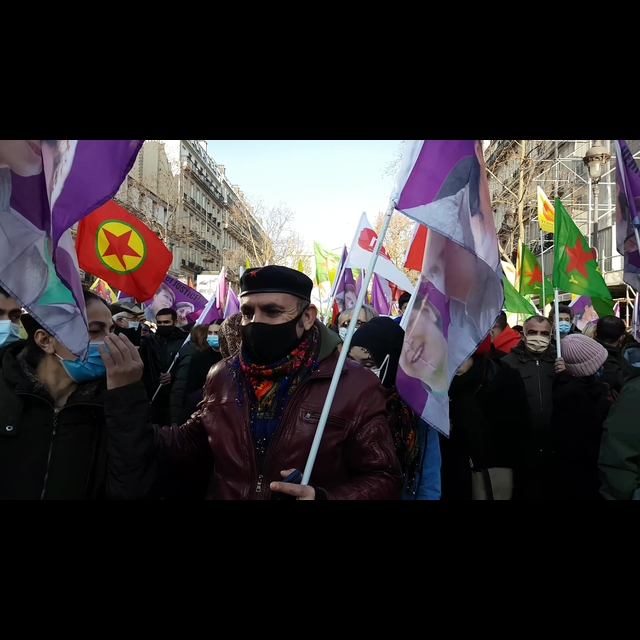PKK: (90, 218, 147, 278)
